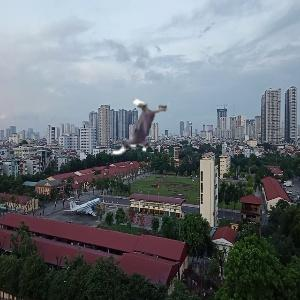drone: (109, 90, 185, 166)
